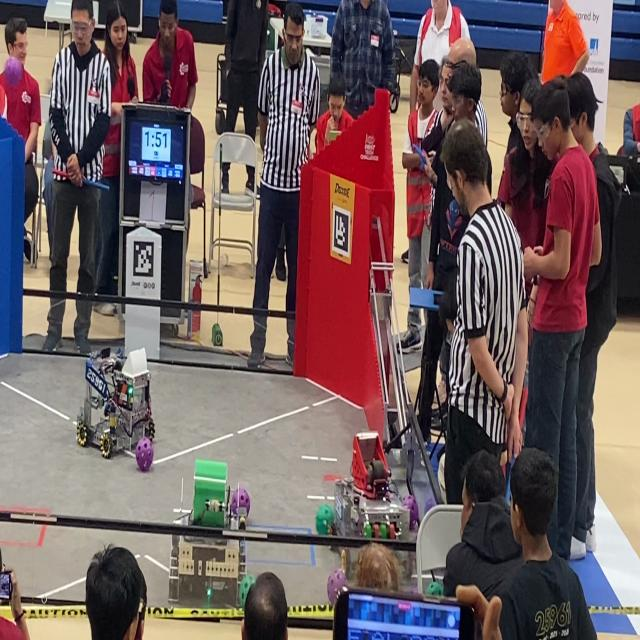artifact_green: (239, 575, 255, 609), (316, 505, 334, 535), (425, 581, 443, 596), (212, 323, 223, 346), (379, 523, 388, 539), (364, 523, 372, 538)
artifact_purple: (327, 569, 347, 606), (136, 438, 153, 472), (403, 496, 419, 529), (231, 488, 250, 515), (5, 57, 23, 85)
